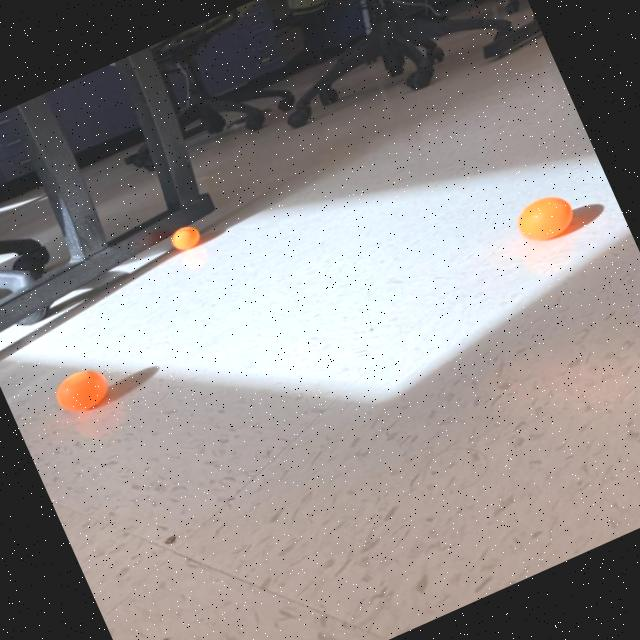ping-pong-ball: (505, 184, 583, 252), (44, 358, 117, 422), (165, 218, 205, 255)
